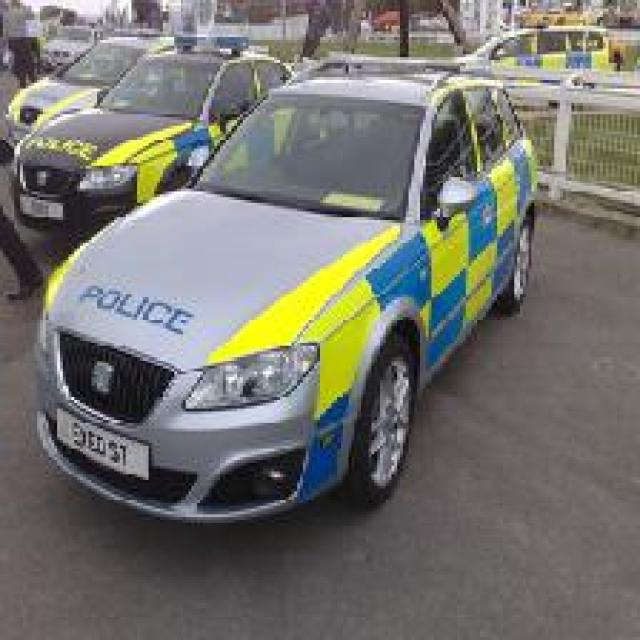Police-car: (31, 54, 540, 526)
